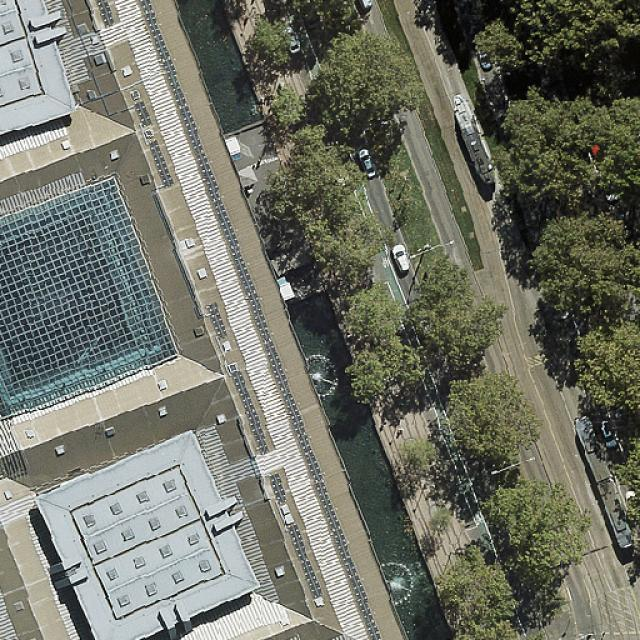Bike-Symbols: (380, 256, 390, 268), (474, 512, 484, 524)
